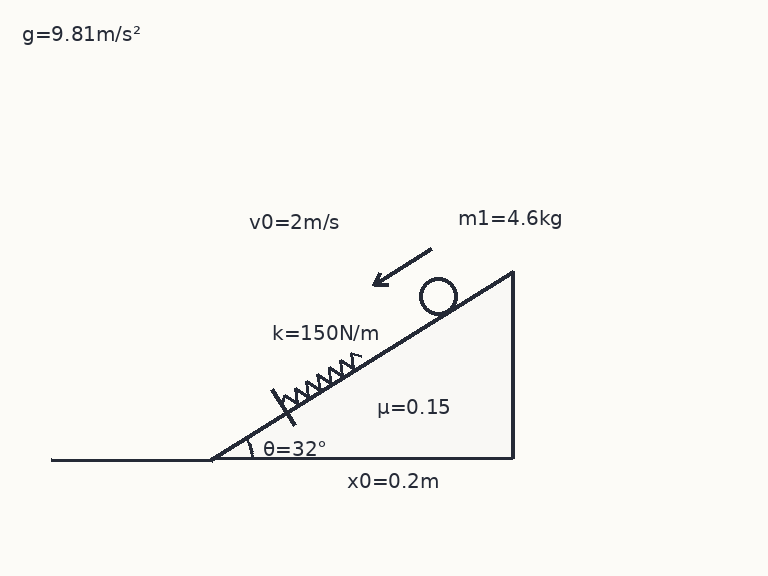ball: (417, 275, 459, 317)
ramp: (210, 269, 514, 461)
spring: (280, 351, 362, 406)
